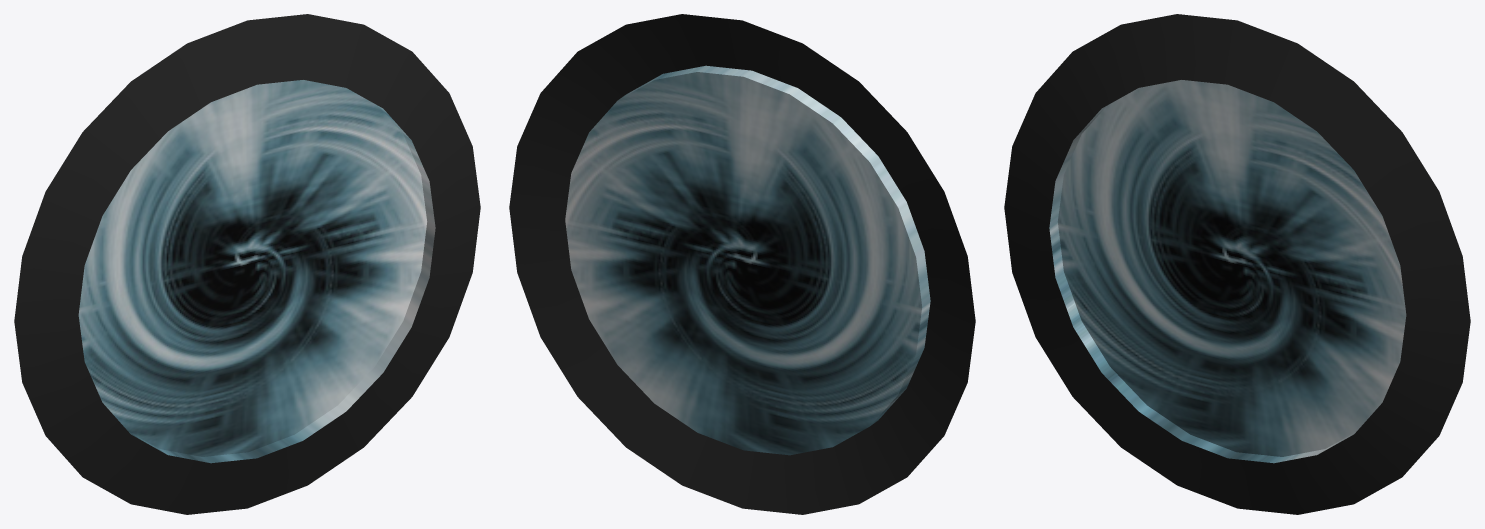
The model's file is portail.obj.
3 views of the same model, side by side, from view 1: azimuth 30°, elevation 25°; view 2: azimuth 150°, elevation 25°; view 3: azimuth 330°, elevation 25° (orthographic).
Parts seen in each view (by area): view 1: Mesh1 Model; view 2: Mesh1 Model; view 3: Mesh1 Model.
Boxes of the visible parts, bbox=[...] form: Mesh1 Model: bbox=[14, 14, 480, 514]; Mesh1 Model: bbox=[509, 14, 975, 514]; Mesh1 Model: bbox=[1004, 14, 1470, 514].
Bounding box in the file's own units: 14 × 14 × 0.5.
Materials: 2 (1 with a texture image).
